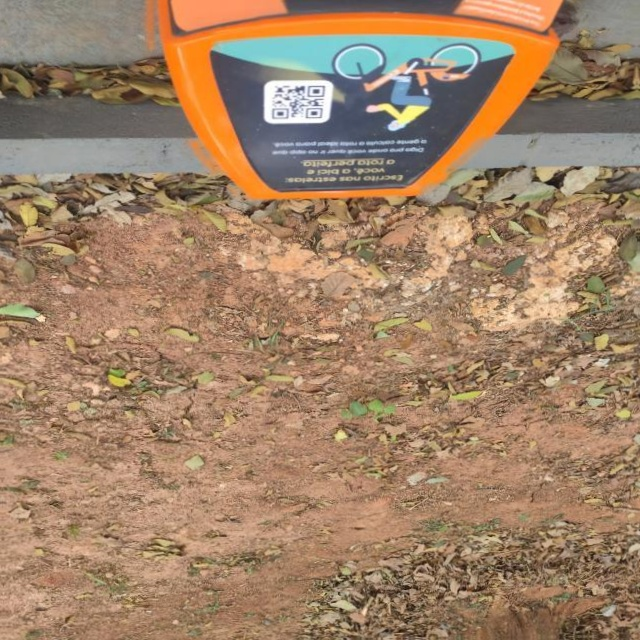qr-code: (272, 85, 325, 119)
